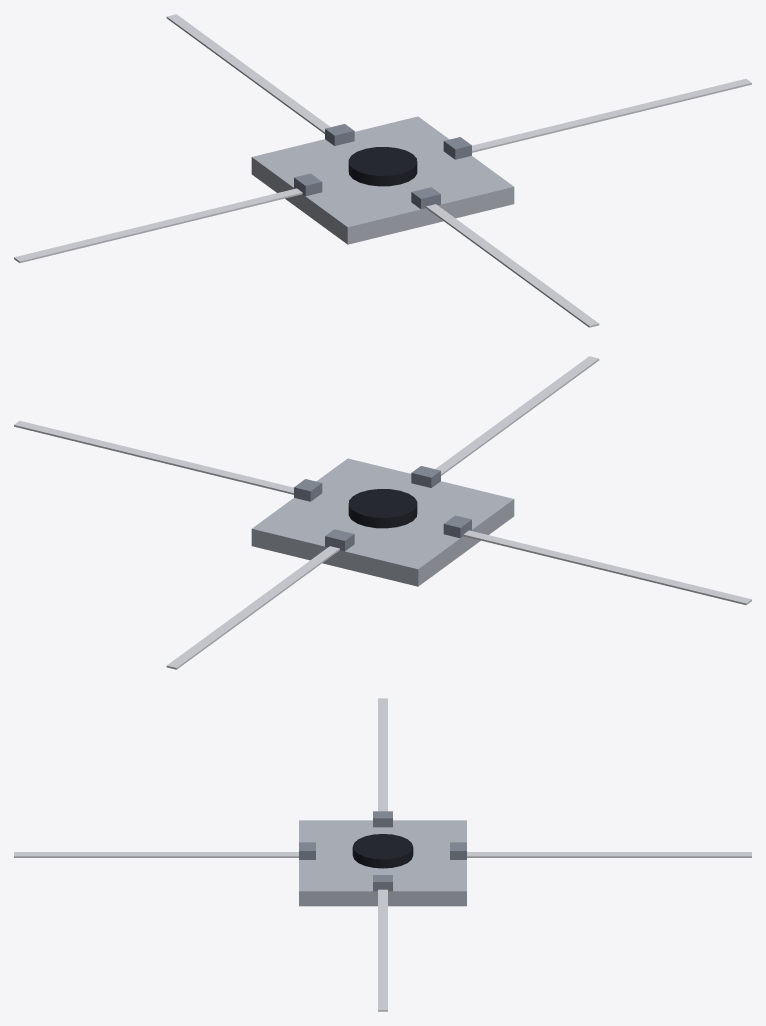
The model's file is uhf.glb.
The picture shows the model from 3 angles, top to bottom: view 1: azimuth 30°, elevation 25°; view 2: azimuth 150°, elevation 25°; view 3: azimuth 270°, elevation 25°; orthographic projection. The views are drawn at different scales.
Visible parts, largest first — view 1: uhf_soporte, uhf_hub, uhf_tape_xn, uhf_tape_xp, uhf_tape_yn, uhf_tape_yp; view 2: uhf_soporte, uhf_hub, uhf_tape_xn, uhf_tape_xp, uhf_tape_yp, uhf_tape_yn; view 3: uhf_soporte, uhf_hub, uhf_tape_yn, uhf_tape_yp, uhf_tape_xp, uhf_tape_xn.
Boxes of the visible parts, box(x1,y1,x2,y2) form: uhf_soporte: box(251, 116, 514, 244); uhf_hub: box(348, 147, 417, 186); uhf_tape_xn: box(14, 188, 302, 262); uhf_tape_xp: box(472, 79, 751, 152); uhf_tape_yn: box(426, 204, 599, 327); uhf_tape_yp: box(166, 14, 330, 133); uhf_soporte: box(251, 458, 514, 586); uhf_hub: box(348, 489, 417, 528); uhf_tape_xn: box(463, 530, 751, 604); uhf_tape_xp: box(14, 421, 293, 494); uhf_tape_yp: box(166, 546, 339, 669); uhf_tape_yn: box(435, 356, 599, 475); uhf_soporte: box(299, 820, 466, 906); uhf_hub: box(352, 834, 413, 868); uhf_tape_yn: box(14, 852, 298, 857); uhf_tape_yp: box(467, 852, 751, 857); uhf_tape_xp: box(378, 889, 387, 1011); uhf_tape_xn: box(378, 698, 387, 811).
Size of the model in its own units: 0.44 by 0.016 by 0.44.
